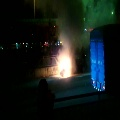fire: (58, 56, 71, 78)
